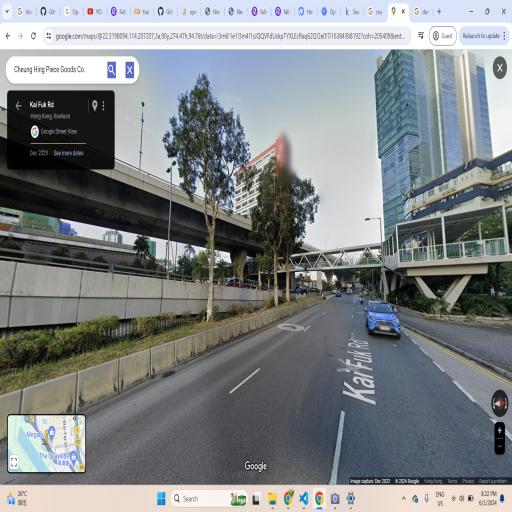Roads: (93, 293, 486, 478)
Trees: (158, 66, 262, 351), (248, 148, 316, 325)
